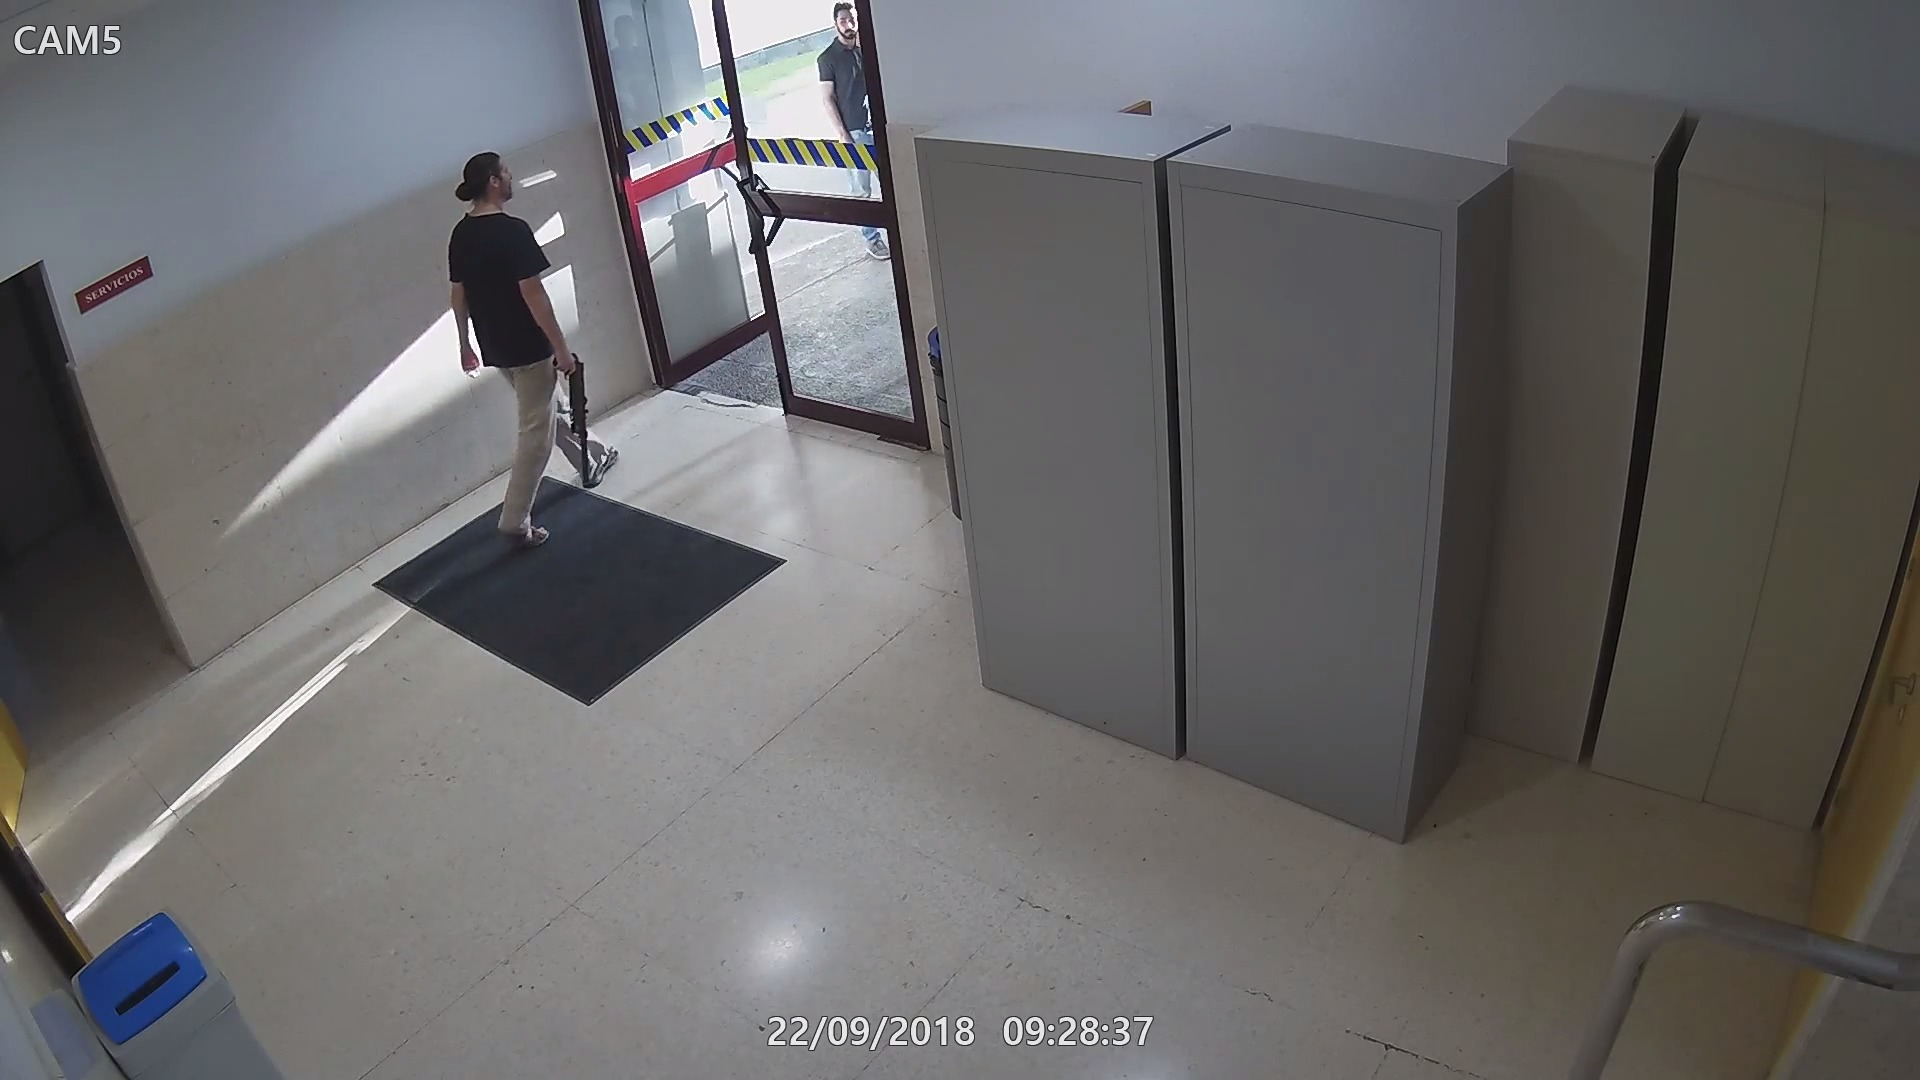Short_rifle: (550, 348, 596, 493)
